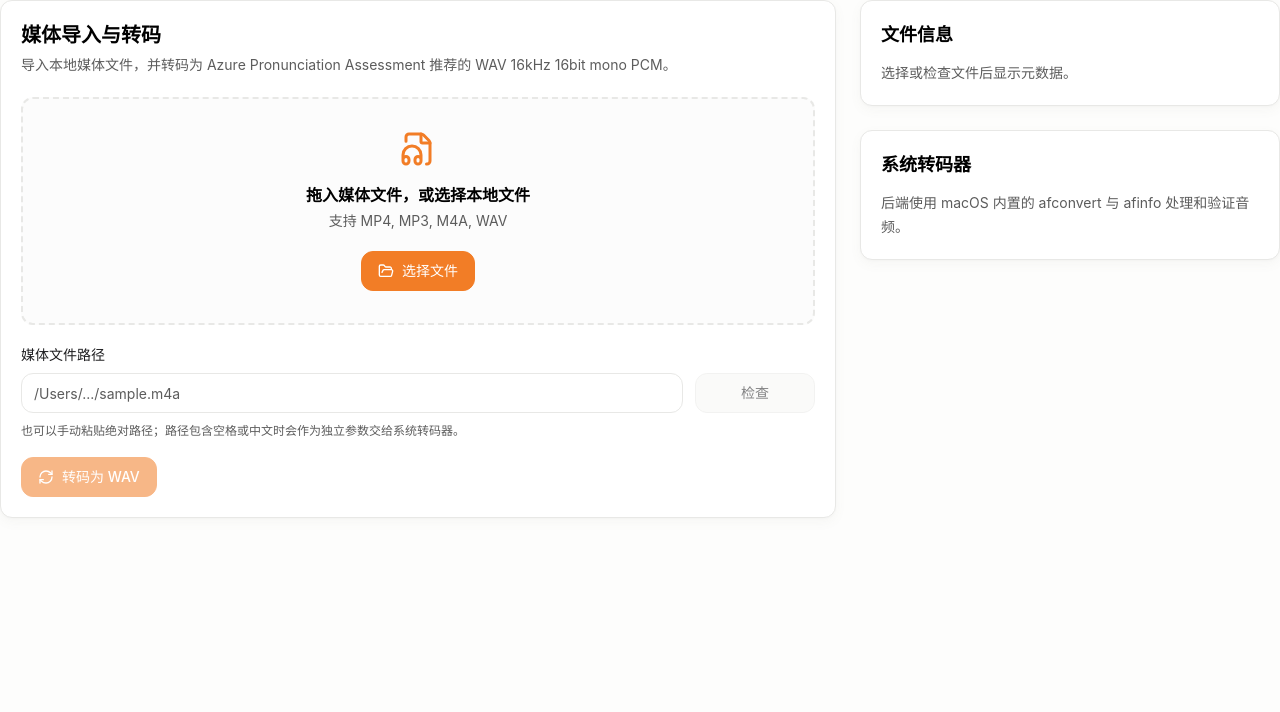
Test: MediaPage › transcodes a supported media file and renders output metadata
Type "/Users/test/audio.m4a" into the field labelled "媒体文件路径" at x=352, y=393, box [21,373,683,413]
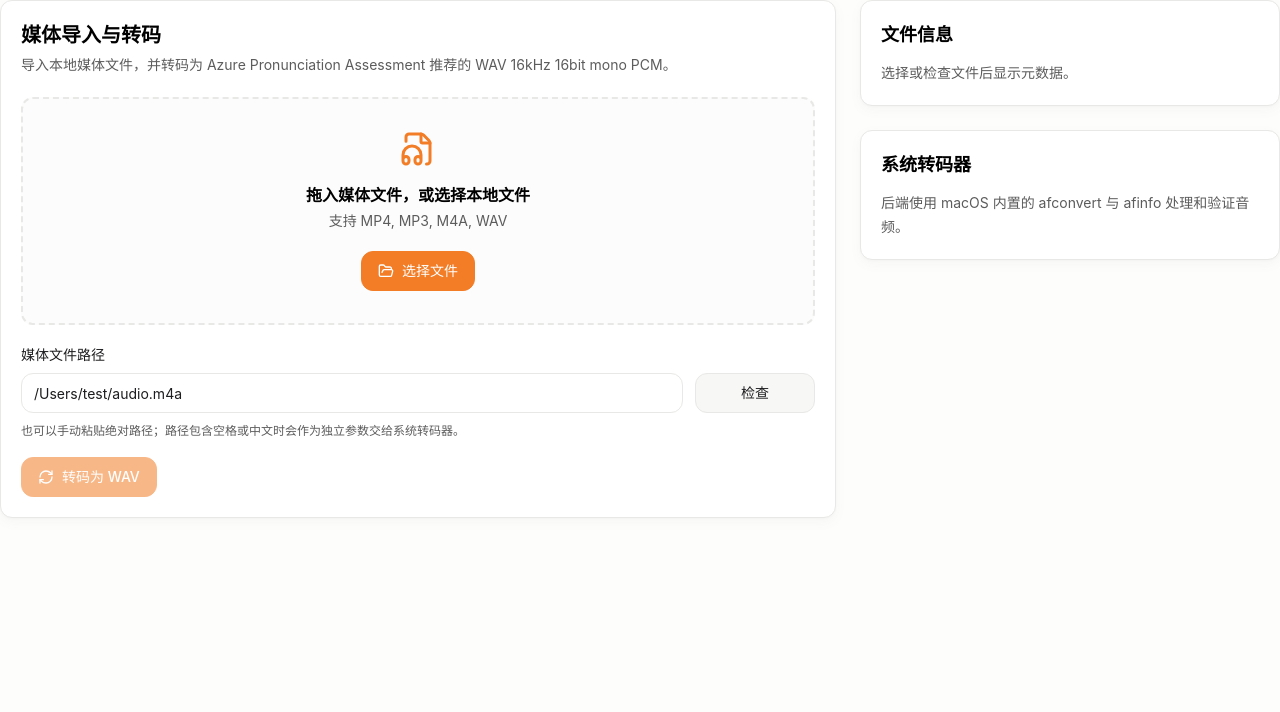
Click the button "检查" at x=755, y=393, box [695,373,815,413]
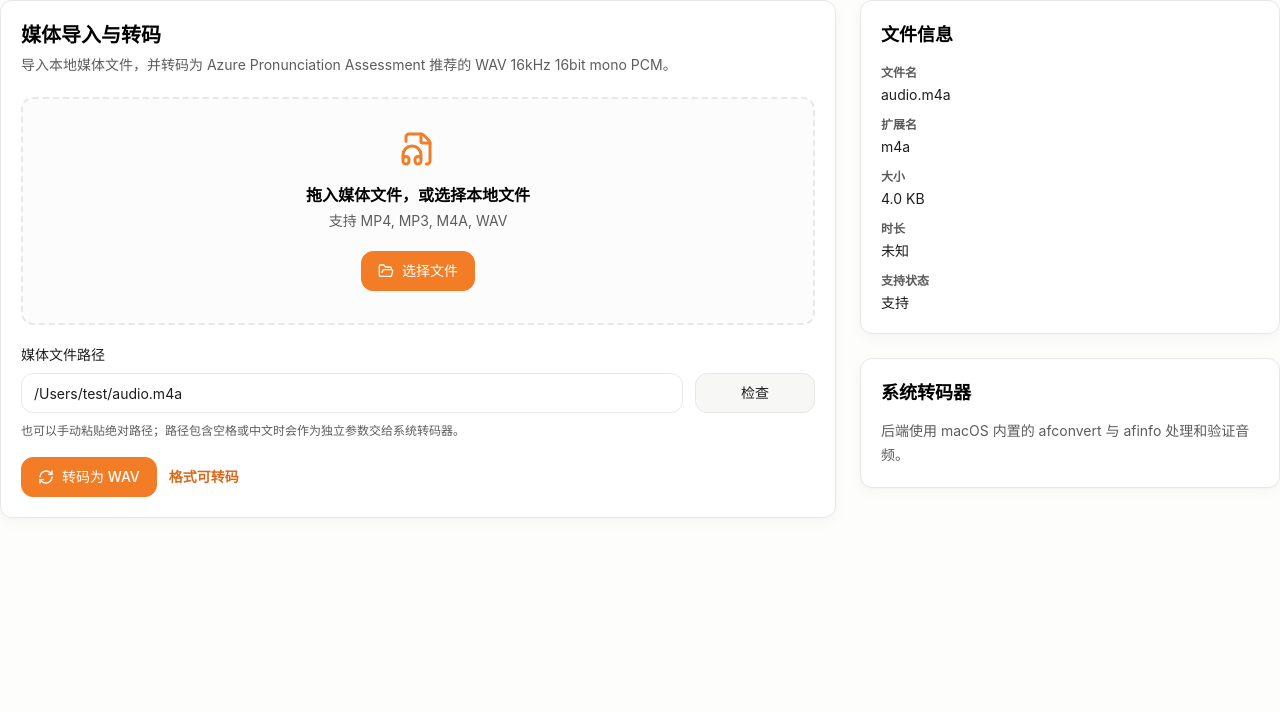
expect the text "格式可转码" is shown: met, box [169,467,239,487]
Click the button "转码为 WAV" at x=89, y=477, box [21,457,157,497]
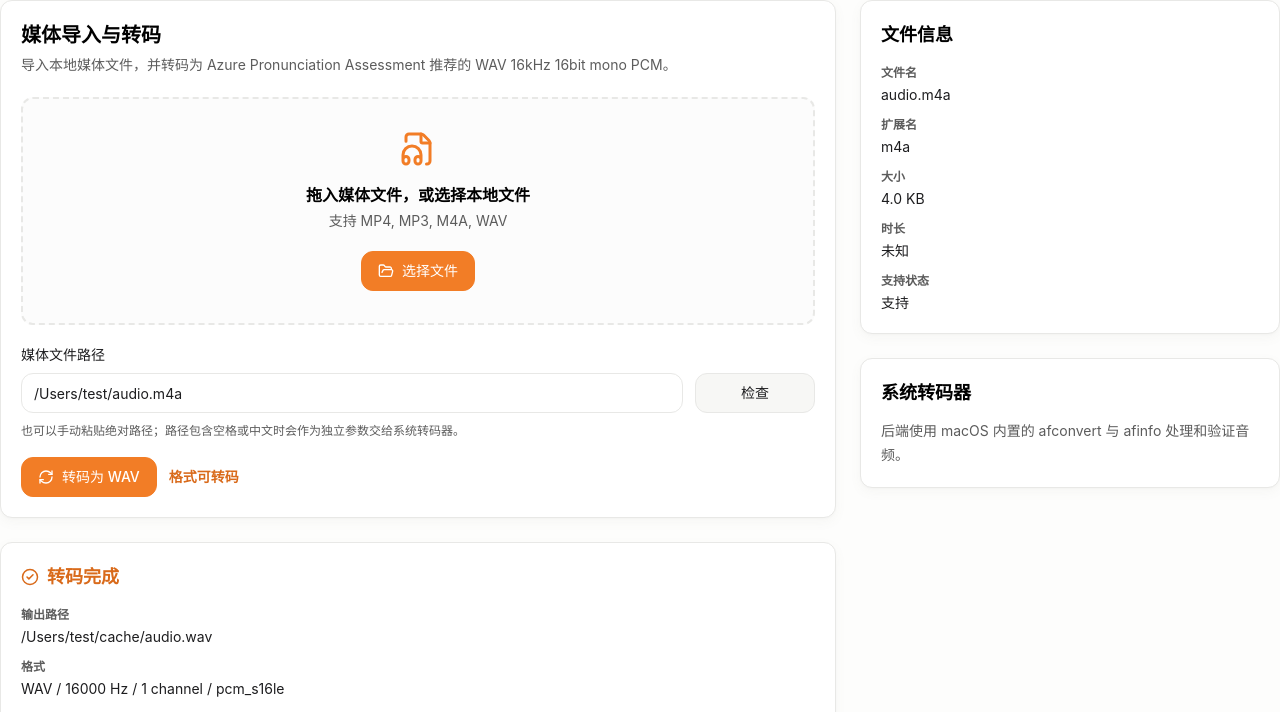
expect the heading "转码完成" is shown: met, box [47,563,119,591]
expect the text "/Users/test/cache/audio.wav" is shown: met, box [21,628,212,645]
